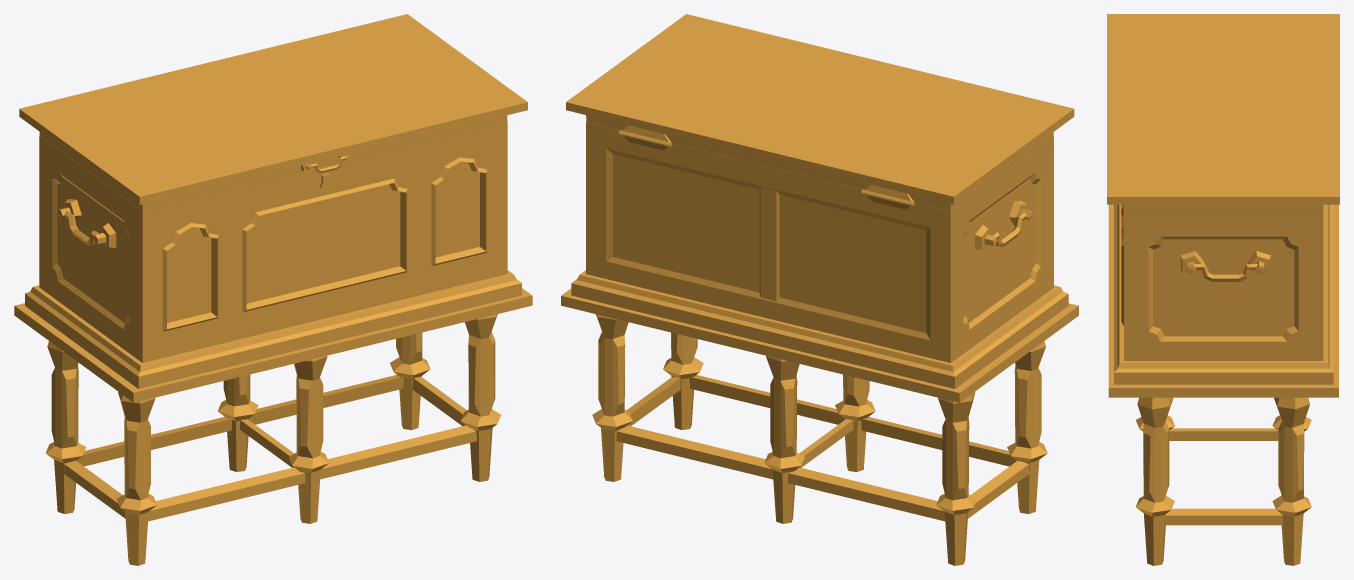
Rendered from SM_Chest_Victorian_A_Legs.fbx.
The picture shows the model from 3 angles, left to right: view 1: azimuth 30°, elevation 25°; view 2: azimuth 150°, elevation 25°; view 3: azimuth 270°, elevation 25°; orthographic projection. The views are drawn at different scales.
Visible parts, largest first — view 1: chest-victorian-a-legs-base, chest-victorian-a-legs-lid; view 2: chest-victorian-a-legs-base, chest-victorian-a-legs-lid; view 3: chest-victorian-a-legs-base, chest-victorian-a-legs-lid.
Boxes of the visible parts, x1,y1,x2,y2 form: chest-victorian-a-legs-base: (14,122,532,565); chest-victorian-a-legs-lid: (19,14,527,210); chest-victorian-a-legs-base: (561,122,1078,565); chest-victorian-a-legs-lid: (566,14,1074,211); chest-victorian-a-legs-base: (1108,204,1338,565); chest-victorian-a-legs-lid: (1107,14,1339,214).
Size of the model in its own units: 1.02 by 0.9528 by 0.535.
